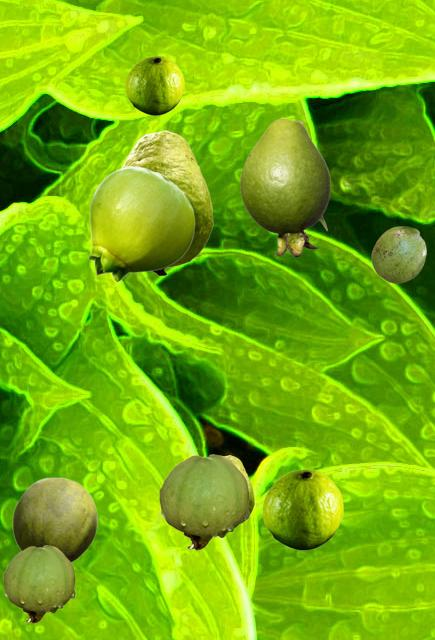guava: (121, 130, 212, 275), (240, 118, 329, 256), (88, 166, 194, 281), (159, 454, 248, 549), (12, 477, 97, 562), (262, 469, 342, 549), (3, 545, 74, 622), (125, 56, 183, 114), (371, 226, 425, 282), (225, 455, 253, 524)
